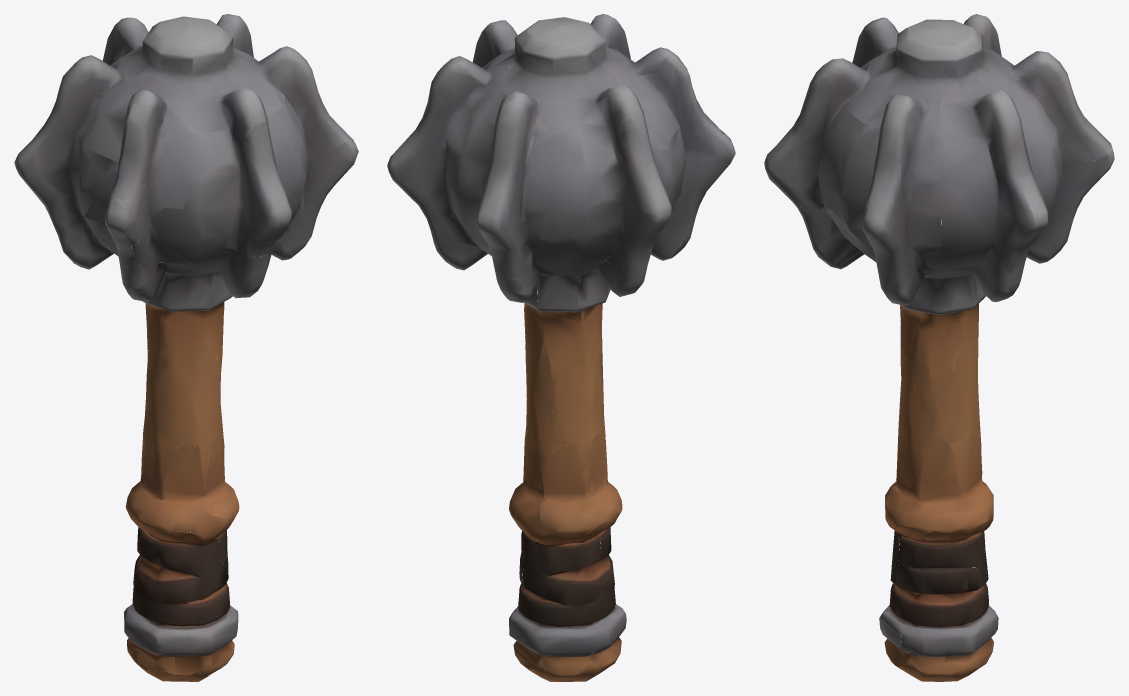
Rendered from Arm_mace-a5lC4jEs.glb.
The picture shows the model from 3 angles, left to right: view 1: azimuth 30°, elevation 25°; view 2: azimuth 150°, elevation 25°; view 3: azimuth 270°, elevation 25°; orthographic projection.
Parts seen in each view (by area): view 1: Arm_mace; view 2: Arm_mace; view 3: Arm_mace.
Boxes of the visible parts, x1,y1,x2,y2 form: Arm_mace: (14, 14, 358, 681); Arm_mace: (387, 14, 735, 681); Arm_mace: (764, 14, 1114, 681).
Bounding box in the file's own units: 0.6602 × 1.45 × 0.7159.
1 material, 1 textured.
